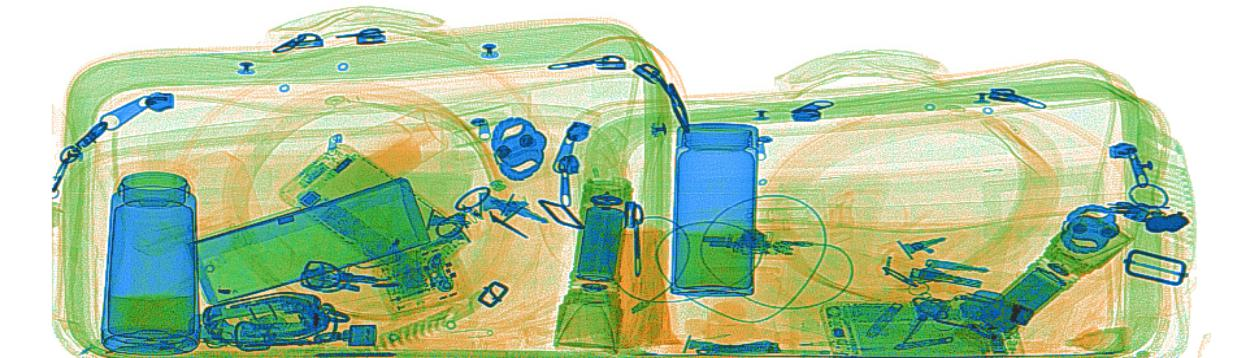battery: (967, 263, 1070, 340), (572, 203, 627, 286)
